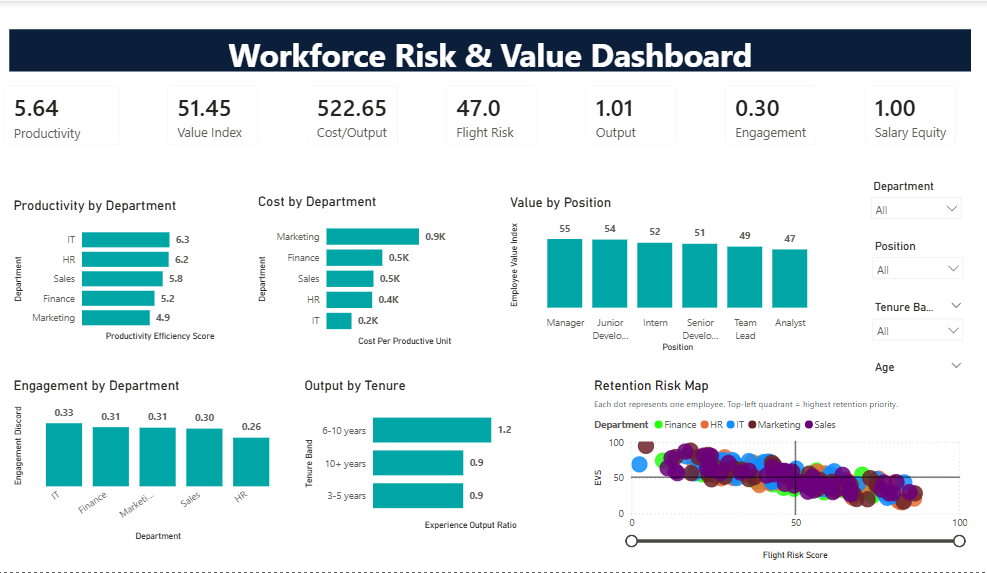

This screenshot's page, from the dashboard's own definition file:
{"tool":"powerbi","page":{"name":"HR Performance Dashboard","canvas":[1280,720],"ordinal":0},"visuals":[{"type":"cardVisual","fields":{"Data":["hr_dashboard_data.Productivity Efficiency Score"]},"box":[15.1,89,180,110],"z":0},{"type":"cardVisual","fields":{"Data":["hr_dashboard_data.Employee Value Index"]},"box":[221.5,89.1,149.3,109.6],"z":1000},{"type":"cardVisual","fields":{"Data":["hr_dashboard_data.Cost Per Productive Unit"]},"box":[397.2,89.1,149.3,109.6],"z":2000},{"type":"cardVisual","fields":{"Data":["hr_dashboard_data.Flight Risk Score"]},"box":[572.8,89.1,149.3,109.6],"z":3000},{"type":"cardVisual","fields":{"Data":["hr_dashboard_data.Experience Output Ratio"]},"box":[748.5,89.1,149.3,109.6],"z":4000},{"type":"cardVisual","fields":{"Data":["hr_dashboard_data.Engagement Discord"]},"box":[924.2,89.1,149.3,109.6],"z":5000},{"type":"cardVisual","fields":{"Data":["hr_dashboard_data.Salary Equity Ratio"]},"box":[1099.9,89.1,149.3,109.6],"z":6000},{"type":"clusteredBarChart","title":"Productivity by Department","fields":{"Y":["hr_dashboard_data.Productivity Efficiency Score"],"Category":["hr_dashboard_data.Department"]},"box":[39.7,247.6,292.9,185.2],"z":6001},{"type":"clusteredBarChart","title":"Cost by Department","fields":{"Category":["hr_dashboard_data.Department"],"Y":["hr_dashboard_data.Cost Per Productive Unit"]},"box":[347.7,241.9,292.9,196.5],"z":6002},{"type":"clusteredColumnChart","title":"Value by Position","fields":{"Category":["hr_dashboard_data.Position"],"Y":["hr_dashboard_data.Employee Value Index"]},"box":[665.2,243.8,408.2,202.2],"z":6005},{"type":"clusteredColumnChart","title":"Engagement by Department","fields":{"Category":["hr_dashboard_data.Department"],"Y":["hr_dashboard_data.Engagement Discord"]},"box":[39.7,474.5,357.2,209.8],"z":6006},{"type":"clusteredBarChart","title":"Output by Tenure","fields":{"Y":["hr_dashboard_data.Experience Output Ratio"],"Category":["hr_dashboard_data.Tenure Band"]},"box":[406.3,474.3,342,196.5],"z":6007},{"type":"slicer","fields":{"Values":["hr_dashboard_data.Department"]},"box":[1115,219.2,134.2,75.6],"z":6008},{"type":"slicer","fields":{"Values":["hr_dashboard_data.Position"]},"box":[1116.9,294.8,134.2,75.6],"z":6009},{"type":"slicer","fields":{"Values":["hr_dashboard_data.Tenure Band"]},"box":[1116.9,372.3,134.2,75.6],"z":6010},{"type":"slicer","fields":{"Values":["hr_dashboard_data.Age"]},"box":[1116.9,447.9,134.2,75.6],"z":6011},{"type":"scatterChart","title":"Retention Risk Map","fields":{"X":["hr_dashboard_data.Flight Risk Score"],"Y":["hr_dashboard_data.Employee Value Index"],"Category":["hr_dashboard_data.Name"],"Series":["hr_dashboard_data.Department"]},"box":[771,474.5,480,234.3],"z":6012},{"type":"actionButton","box":[39.7,35.9,1211.3,52.9],"z":6013}]}

Visuals, with their boxes on the page's 1280x720 design canvas (x1, y1, x2, y2). These are canvas units, not pixel positions in the 987x573 screenshot, which may show the page scaled, cropped or inside an application window:
cardVisual - hr_dashboard_data.Productivity Efficiency Score: x1=15, y1=89, x2=195, y2=199
cardVisual - hr_dashboard_data.Employee Value Index: x1=222, y1=89, x2=371, y2=199
cardVisual - hr_dashboard_data.Cost Per Productive Unit: x1=397, y1=89, x2=546, y2=199
cardVisual - hr_dashboard_data.Flight Risk Score: x1=573, y1=89, x2=722, y2=199
cardVisual - hr_dashboard_data.Experience Output Ratio: x1=748, y1=89, x2=898, y2=199
cardVisual - hr_dashboard_data.Engagement Discord: x1=924, y1=89, x2=1074, y2=199
cardVisual - hr_dashboard_data.Salary Equity Ratio: x1=1100, y1=89, x2=1249, y2=199
"Productivity by Department" clusteredBarChart: x1=40, y1=248, x2=333, y2=433
"Cost by Department" clusteredBarChart: x1=348, y1=242, x2=641, y2=438
"Value by Position" clusteredColumnChart: x1=665, y1=244, x2=1073, y2=446
"Engagement by Department" clusteredColumnChart: x1=40, y1=474, x2=397, y2=684
"Output by Tenure" clusteredBarChart: x1=406, y1=474, x2=748, y2=671
slicer - hr_dashboard_data.Department: x1=1115, y1=219, x2=1249, y2=295
slicer - hr_dashboard_data.Position: x1=1117, y1=295, x2=1251, y2=370
slicer - hr_dashboard_data.Tenure Band: x1=1117, y1=372, x2=1251, y2=448
slicer - hr_dashboard_data.Age: x1=1117, y1=448, x2=1251, y2=524
"Retention Risk Map" scatterChart: x1=771, y1=474, x2=1251, y2=709
actionButton: x1=40, y1=36, x2=1251, y2=89
